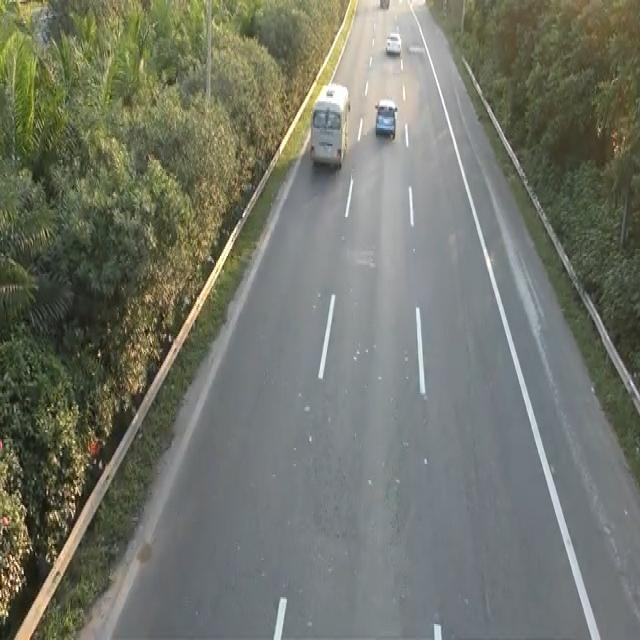bus: (373, 96, 398, 140)
jeep: (307, 80, 351, 171)
